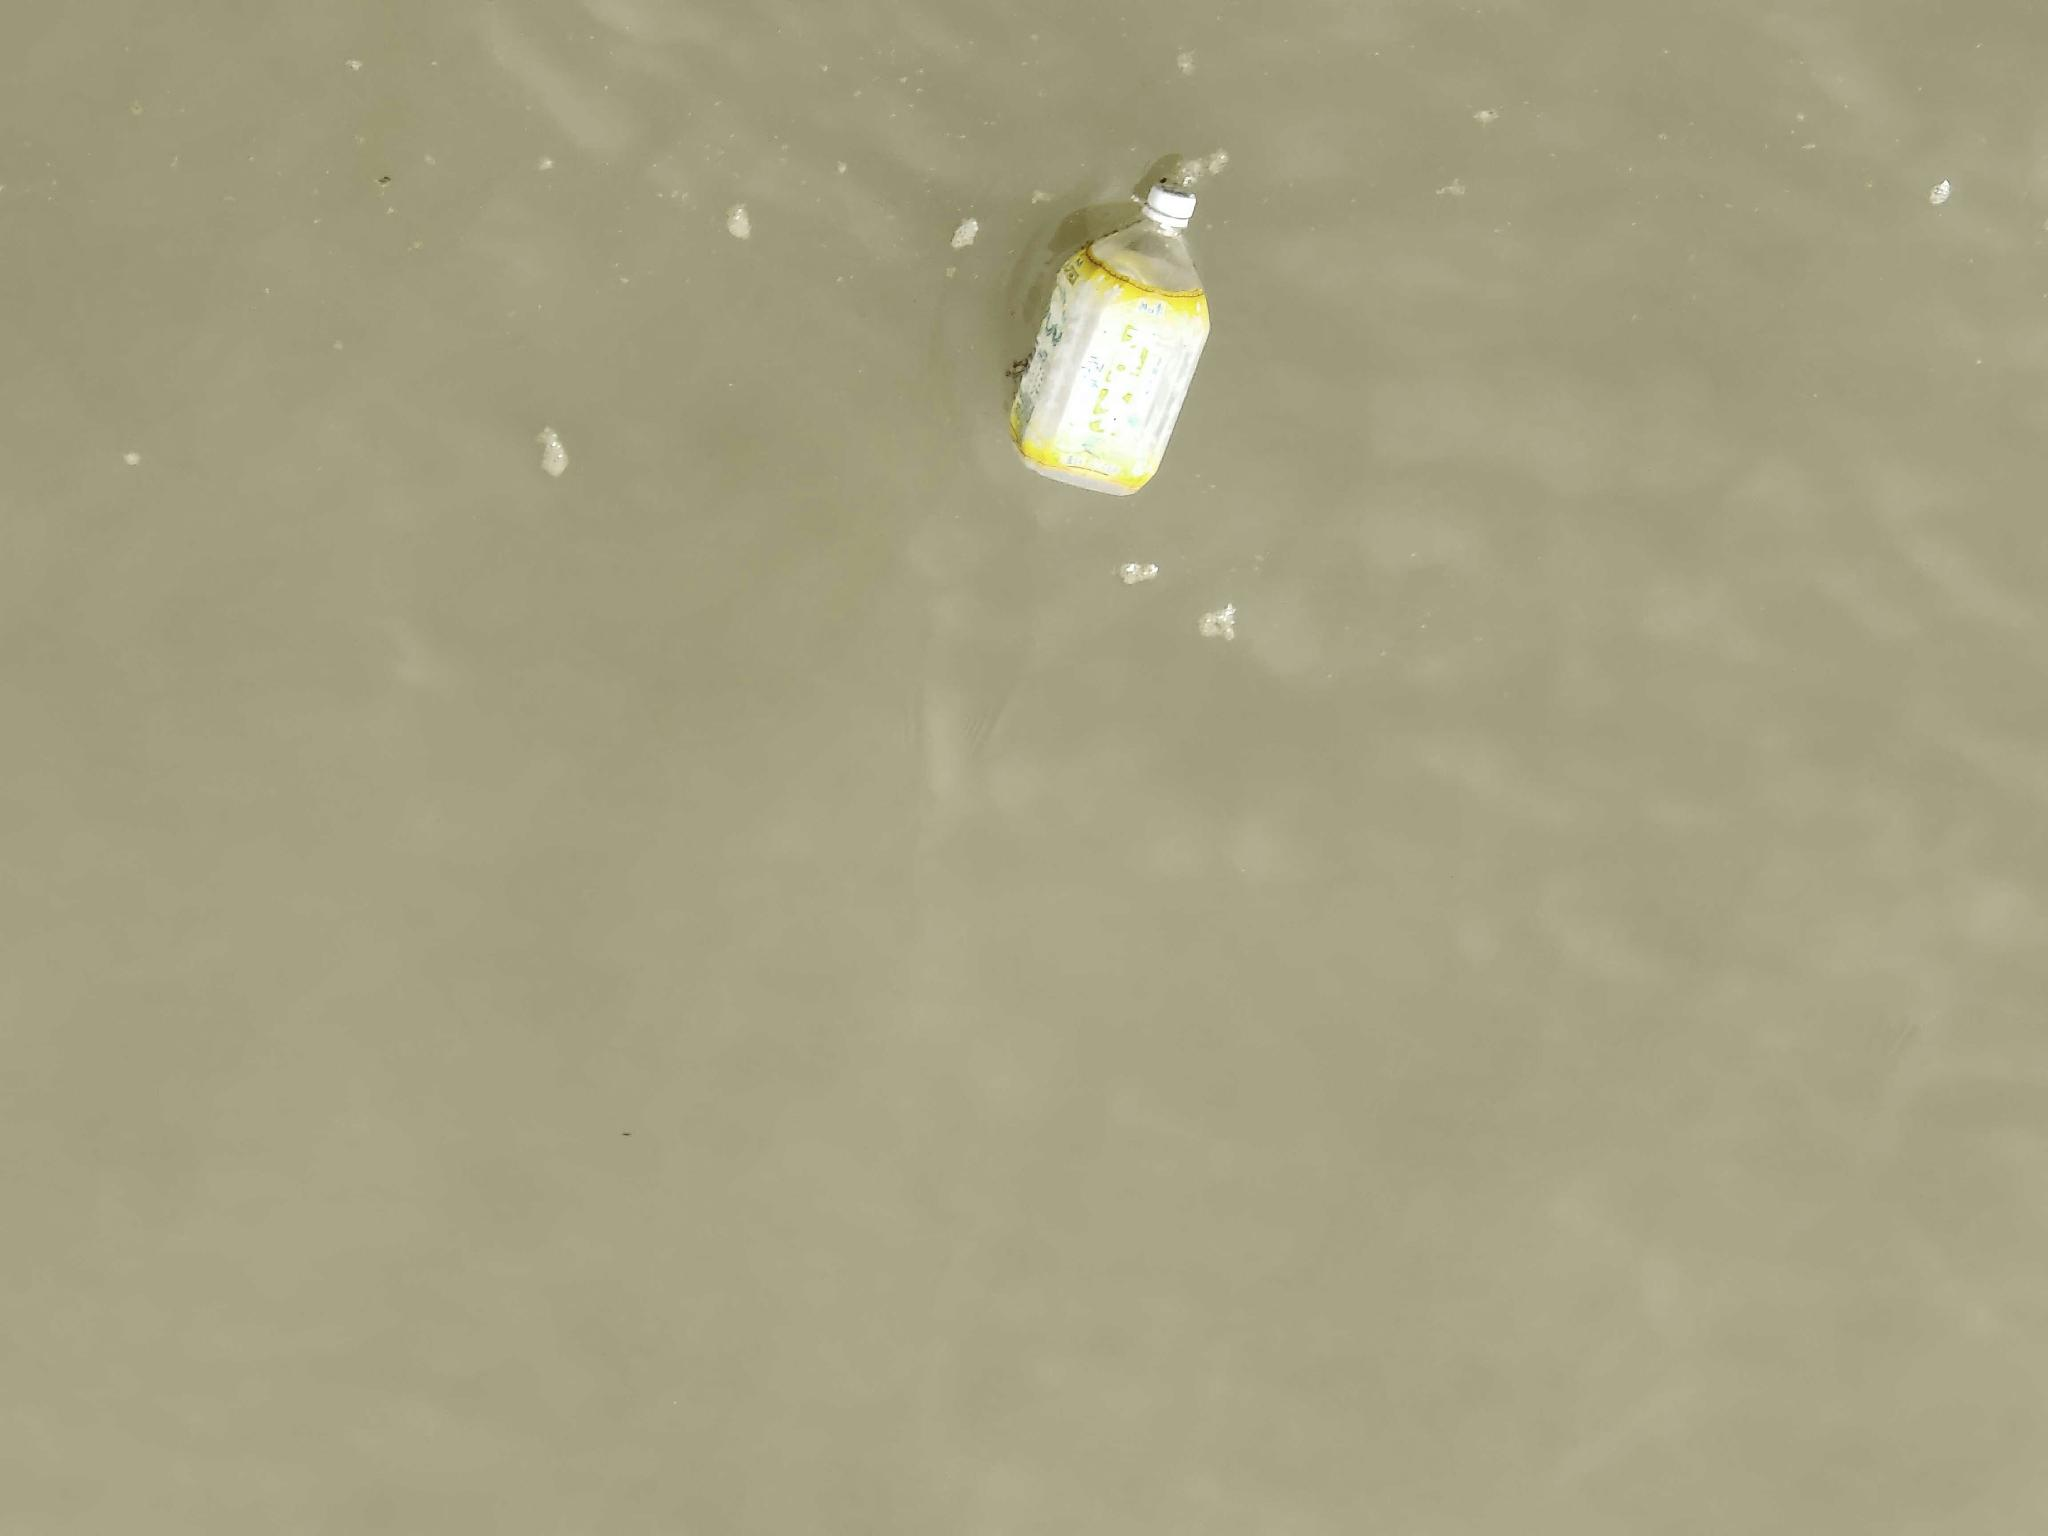Plastic: (1001, 161, 1219, 499)
